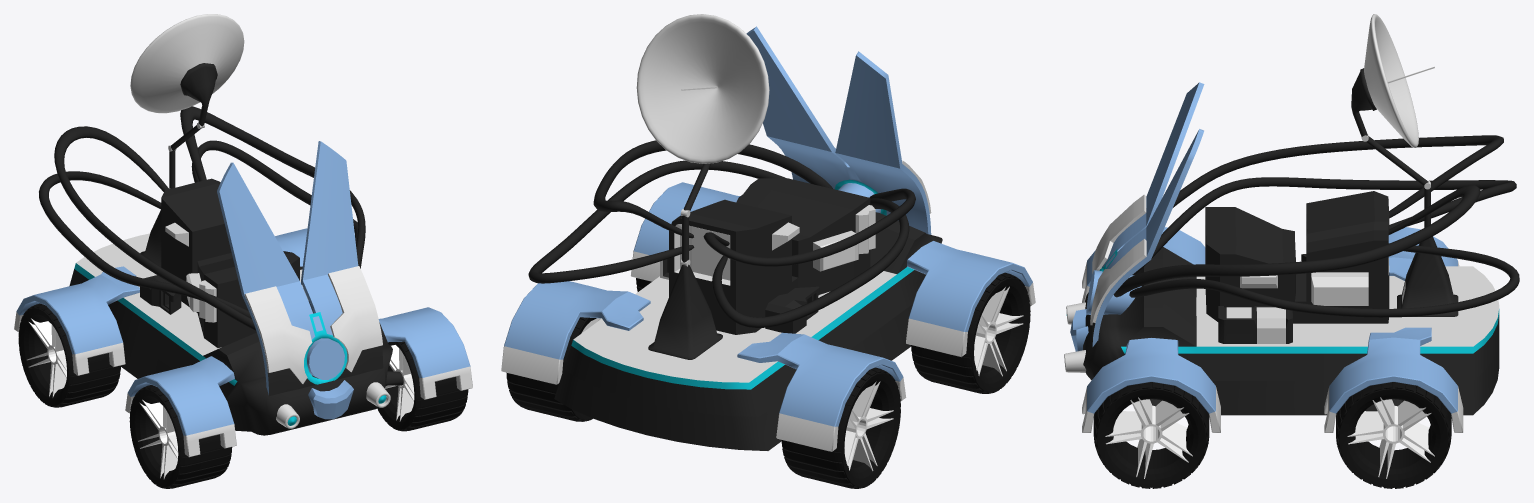
File: Rover 1.fbx
3 views of the same model, side by side, from view 1: azimuth 30°, elevation 25°; view 2: azimuth 150°, elevation 25°; view 3: azimuth 270°, elevation 25° (orthographic). The views are drawn at different scales.
Parts seen in each view (by area): view 1: Head_Plate, Cube.006, Large_Box, ROVER.001, Support_Back_Right, Support_Front_Right, Support_Front_Left, Wheel_Back_Right, Wheel_Front_Right, Cable_03, Plate_Left, Plate_Right (+13 smaller); view 2: Cube.006, Large_Box, ROVER.001, Head_Plate, Support_Back_Right, Support_Back_Left, Support_Front_Right, Wheel_Back_Right, Wheel_Front_Right, Cable_02, Cube, Cable_04 (+7 smaller); view 3: Cube.006, Large_Box, Wheel_Front_Left, Wheel_Back_Left, Support_Back_Left, Support_Front_Left, Cable_01, Head_Plate, Cable_02, Cable_03, Cable_04, ROVER.001 (+12 smaller).
Boxes of the visible parts, x1,y1,x2,y2 form: Head_Plate: (217,141,383,396); Cube.006: (69,233,392,435); Large_Box: (161,178,299,347); ROVER.001: (130,14,244,113); Support_Back_Right: (14,266,139,375); Support_Front_Right: (125,356,236,457); Support_Front_Left: (378,307,472,399); Wheel_Back_Right: (18,303,120,407); Wheel_Front_Right: (129,385,232,488); Cable_03: (54,126,256,330); Plate_Left: (244,286,312,383); Plate_Right: (328,266,382,372); Cube.006: (554,194,942,450); Large_Box: (660,178,875,334); ROVER.001: (636,14,769,163); Head_Plate: (746,26,931,234); Support_Back_Right: (737,332,906,451); Support_Back_Left: (501,281,650,384); Support_Front_Right: (906,241,1035,357); Wheel_Back_Right: (781,367,900,488); Wheel_Front_Right: (911,272,1030,393); Cable_02: (528,160,786,283); Cube: (648,264,722,359); Cable_04: (712,198,909,327); Cube.006: (1083,247,1499,415); Large_Box: (1205,191,1389,323); Wheel_Front_Left: (1093,382,1209,488); Wheel_Back_Left: (1336,382,1451,488); Support_Back_Left: (1324,327,1463,432); Support_Front_Left: (1082,338,1220,432); Cable_01: (1113,185,1480,297); Head_Plate: (1092,82,1204,346); Cable_02: (1129,245,1519,317); Cable_03: (1173,135,1503,218); Cable_04: (1132,177,1516,274); ROVER.001: (1364,14,1418,147).
Size of the model in its own units: 203 by 243 by 255.
